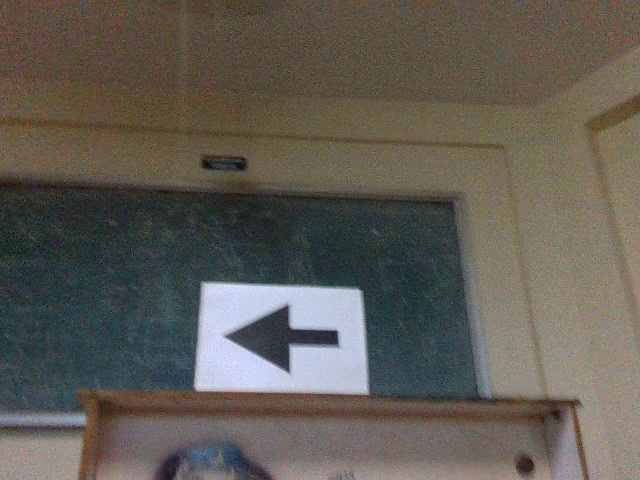Left: (217, 295, 348, 380)
